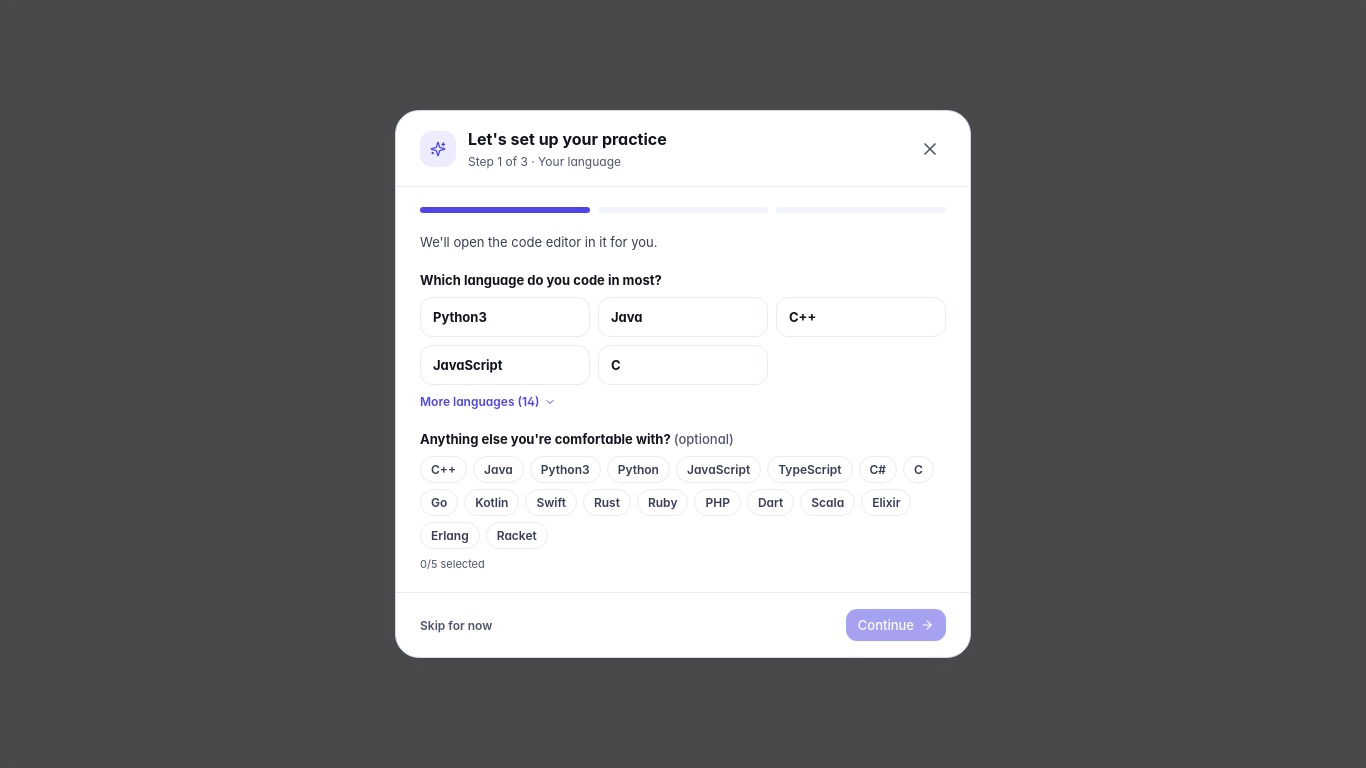
it: the first-login wizard › needs a level and a goal before the last step
Click the radio button labelled "Python3": point(505, 317) [420, 297, 590, 337]
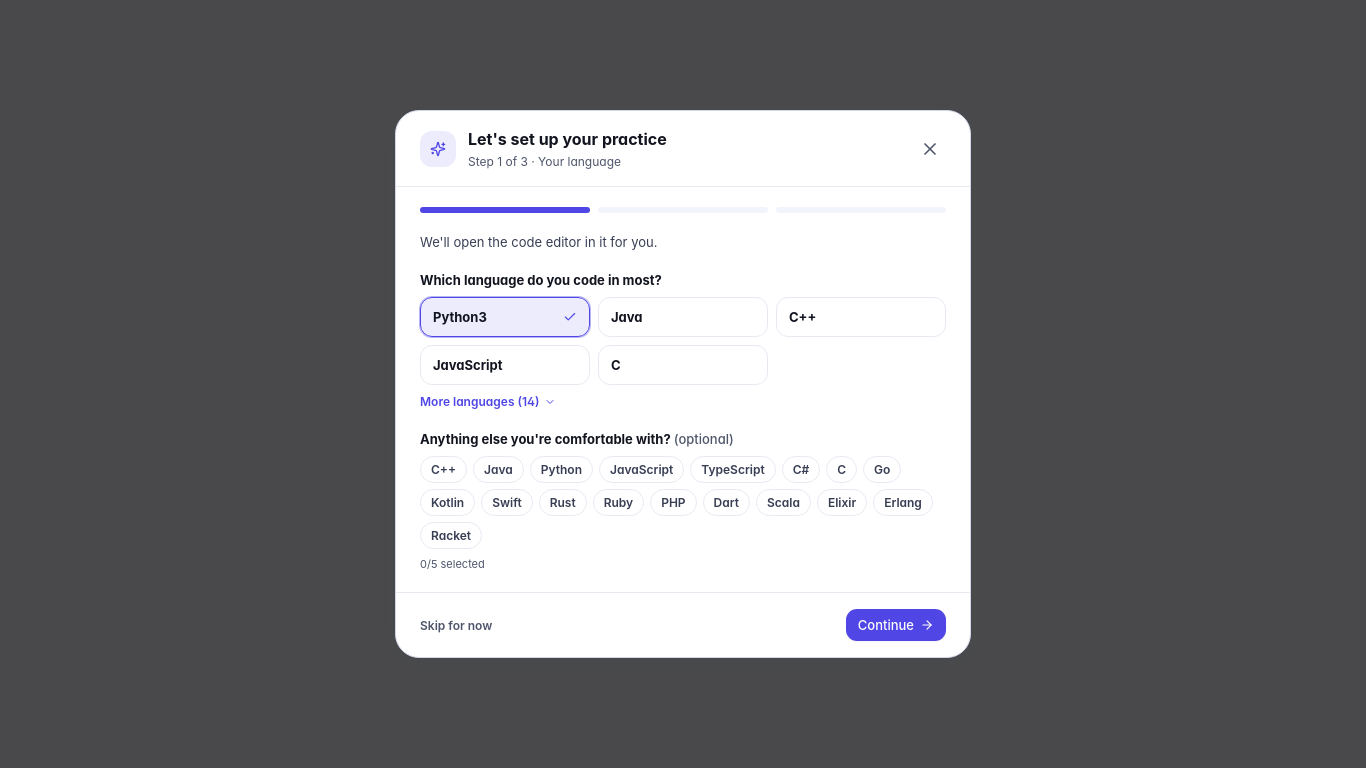
Click the button "Continue": point(896, 625) [846, 609, 946, 641]
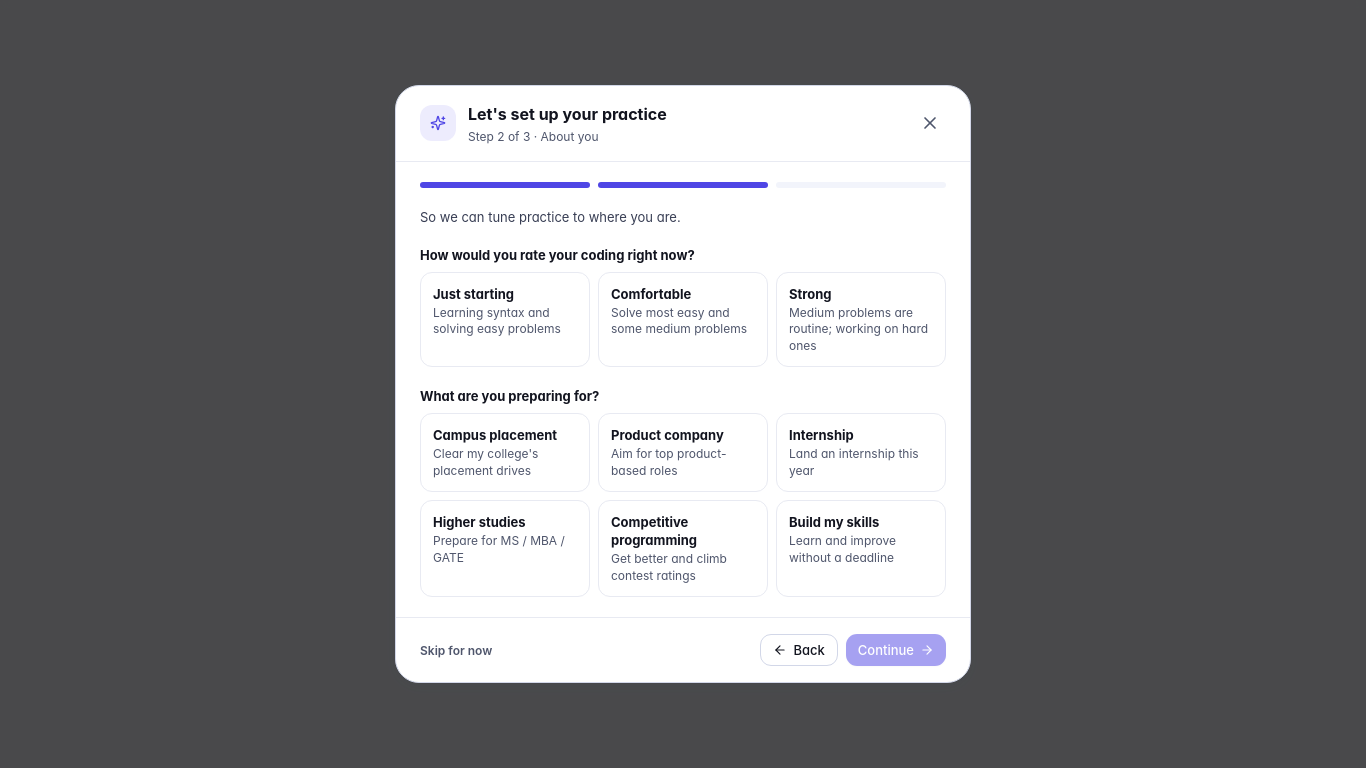
Check: the button "Continue" is disabled, box [846, 634, 946, 666]
Click the radio button labelled "Comfortable Solve most easy and some medium problems": point(683, 320) [598, 272, 768, 367]
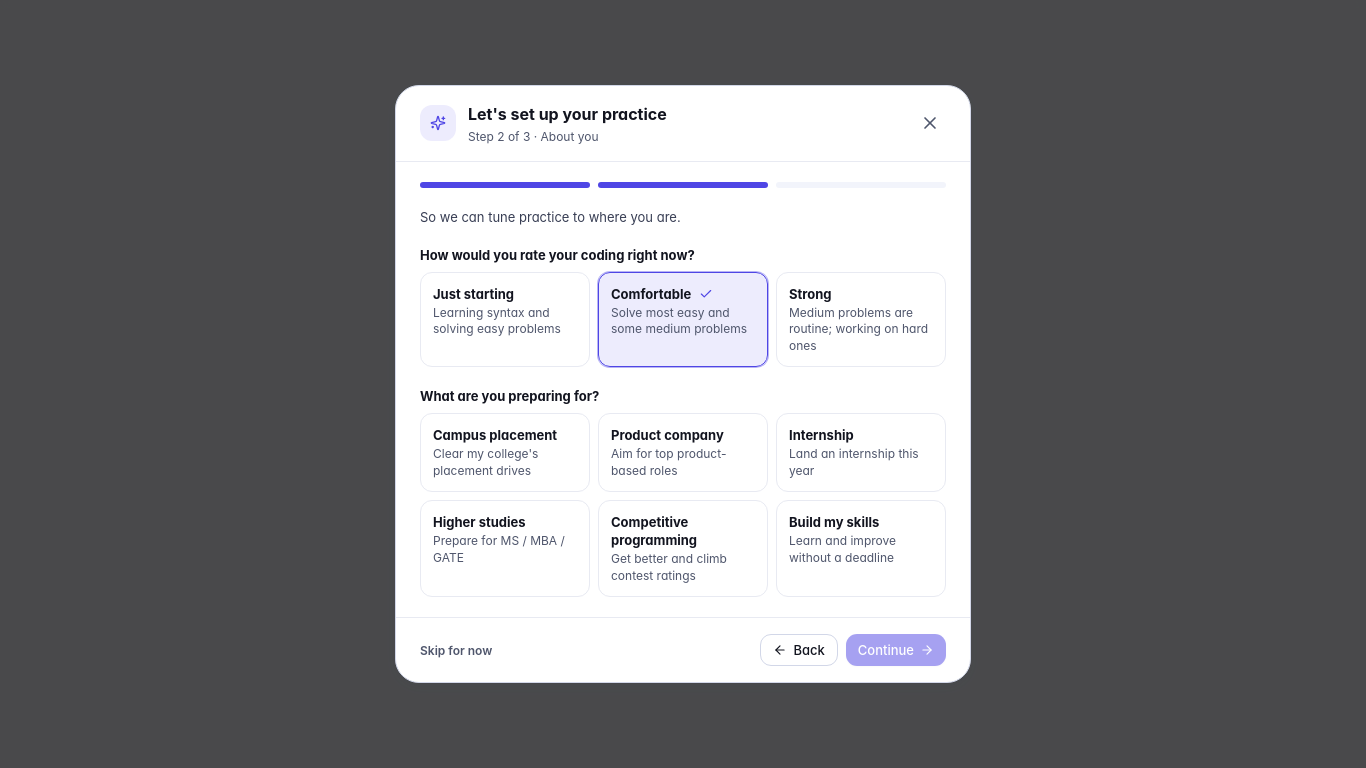
Check: the button "Continue" is disabled, box [846, 634, 946, 666]
Click the radio button labelled "Campus placement Clear my college's placement drives": point(505, 453) [420, 413, 590, 492]
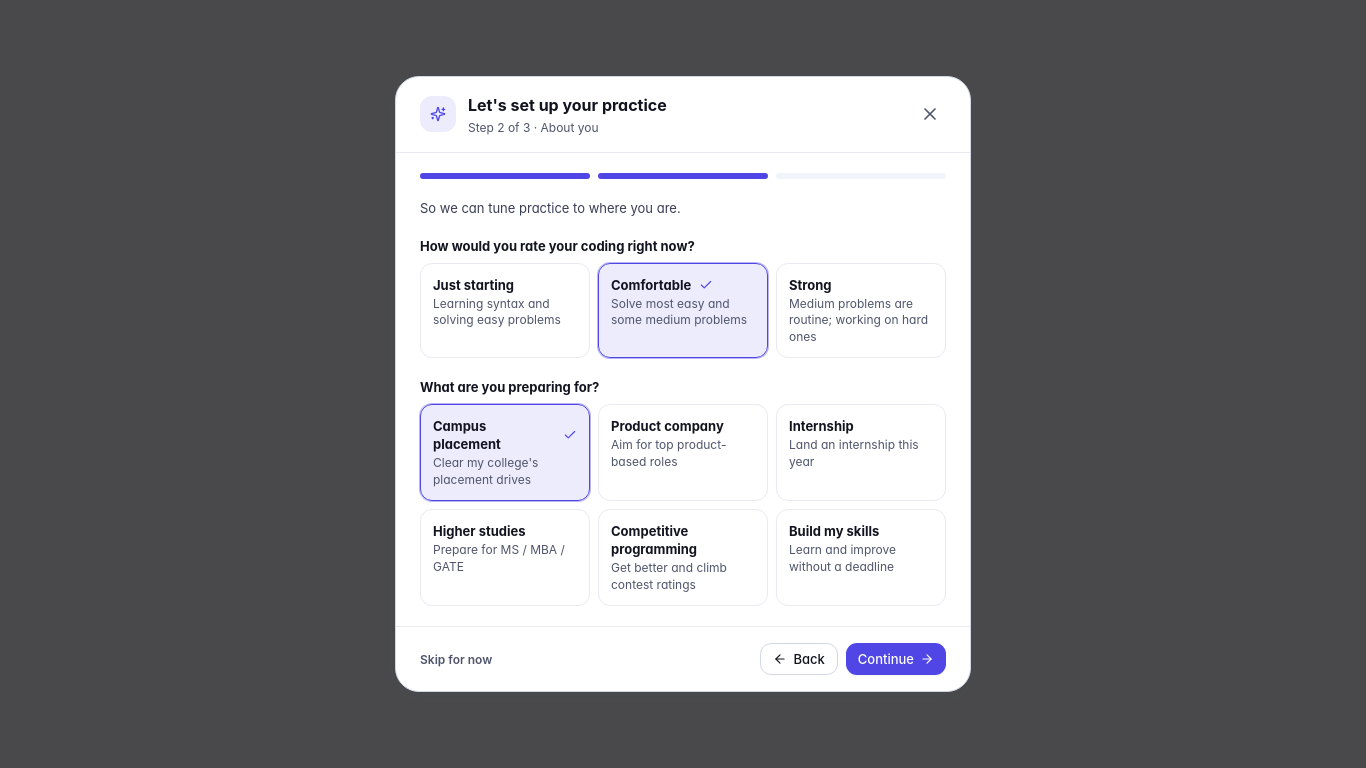
Check: the button "Continue" is enabled, box [846, 643, 946, 675]
